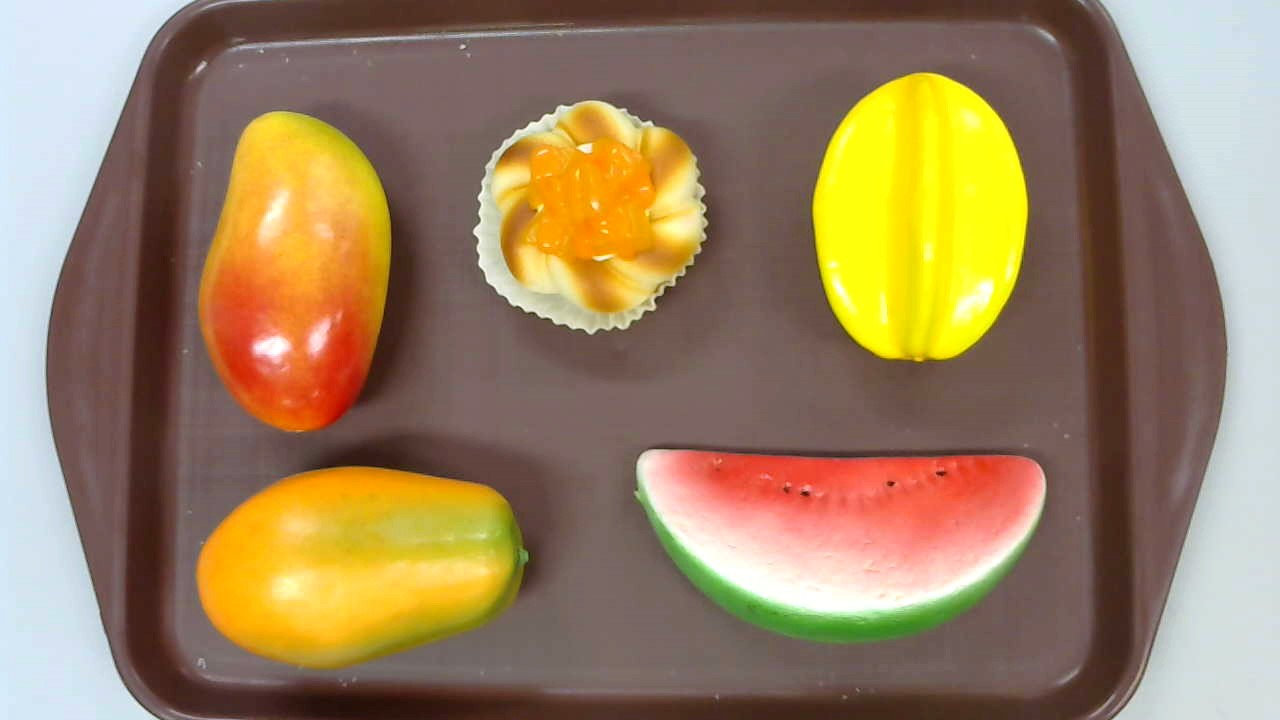mango tart: (472, 100, 710, 338)
papya: (196, 466, 528, 670)
red mango: (197, 110, 390, 433)
star fruit: (810, 73, 1027, 362)
water melon: (634, 447, 1046, 644)
